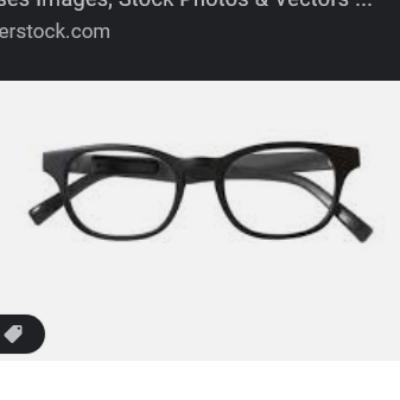glasses: (23, 141, 379, 257)
